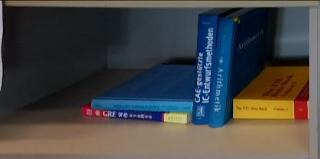book-spine: (190, 13, 219, 126), (208, 15, 235, 129), (232, 99, 310, 121), (81, 108, 188, 124), (91, 98, 194, 113)
